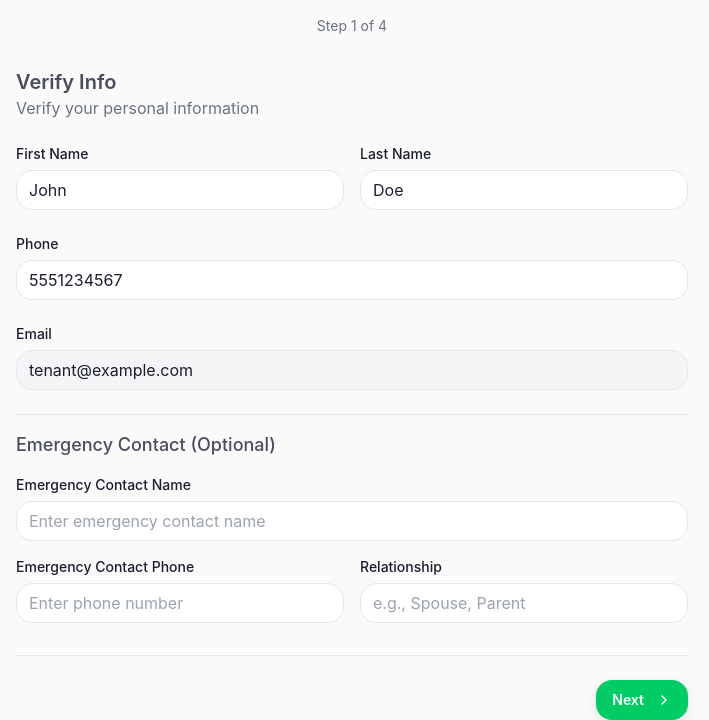
it: OnboardingWizard › Step 1: Personal Info › should advance to step 2 when form is valid
This screenshot has width=709, height=720.
(page scrolled)
Click the button "Next" at {"x": 642, "y": 700}, box left=596, top=680, right=688, bottom=719
(page scrolled)
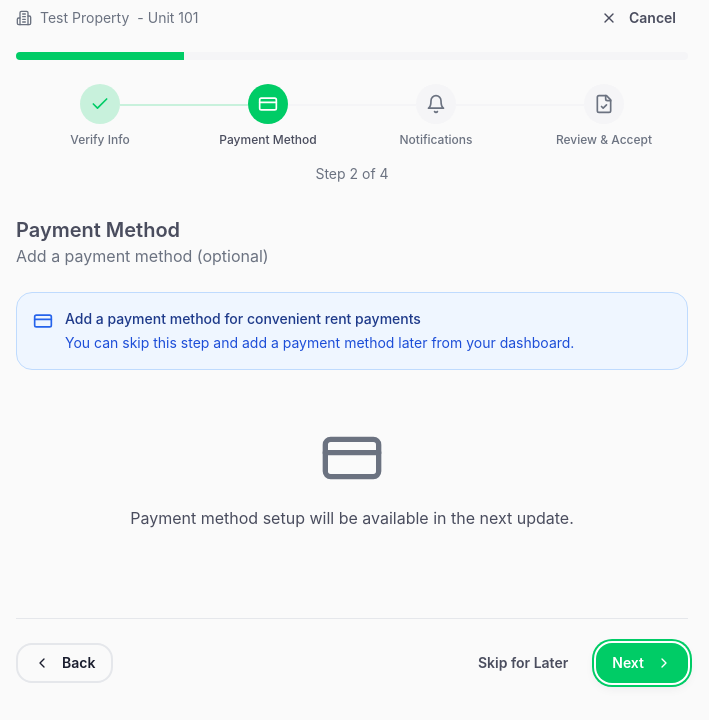
Check: the text "Step 2 of 4" is shown, box left=315, top=165, right=389, bottom=182
